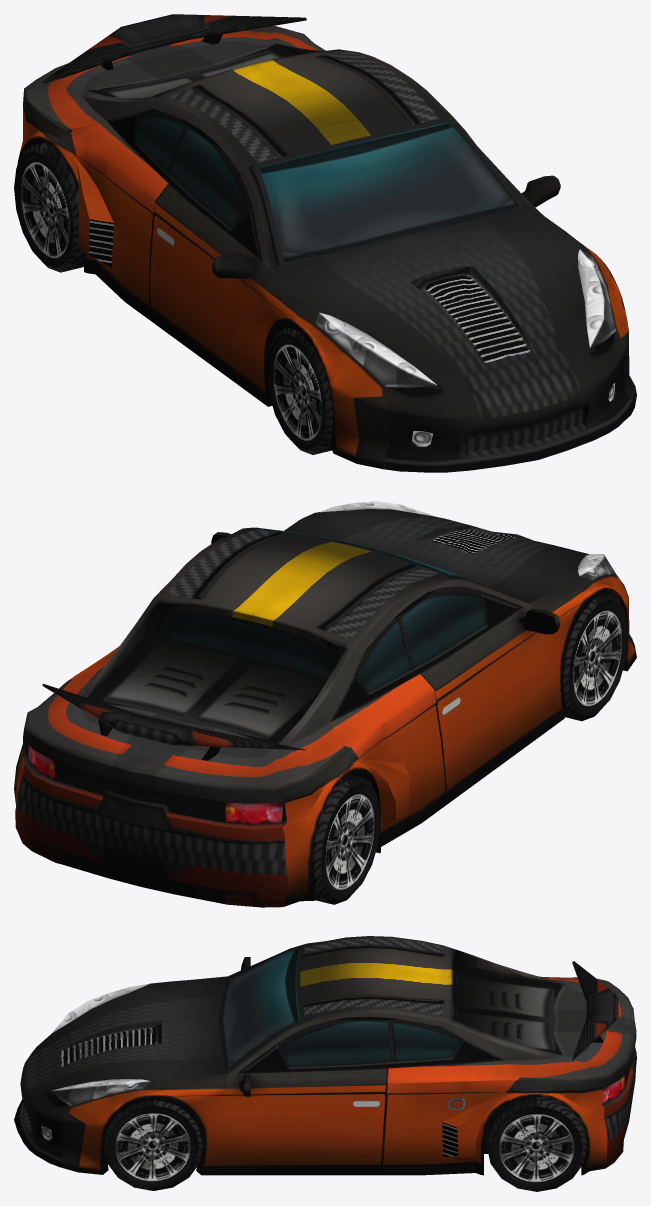
3 renders of one model, top to bottom at view 1: azimuth 30°, elevation 25°; view 2: azimuth 150°, elevation 25°; view 3: azimuth 270°, elevation 25°, orthographic. The views are drawn at different scales.
Visible parts, largest first — view 1: player_chassis, veh_wheel_b, veh_wheel_fr; view 2: player_chassis, veh_wheel_b, veh_wheel_fr; view 3: player_chassis, veh_wheel_b, veh_wheel_fl.
Boxes of the visible parts, x1,y1,x2,y2 form: player_chassis: (17,14,636,472); veh_wheel_b: (14,142,83,272); veh_wheel_fr: (266,327,333,454); player_chassis: (15,501,636,907); veh_wheel_b: (14,744,380,904); veh_wheel_fr: (563,594,628,721); player_chassis: (14,936,636,1175); veh_wheel_b: (486,1096,587,1191); veh_wheel_fl: (103,1100,202,1190).
Size of the model in its own units: 213 by 128 by 434.
